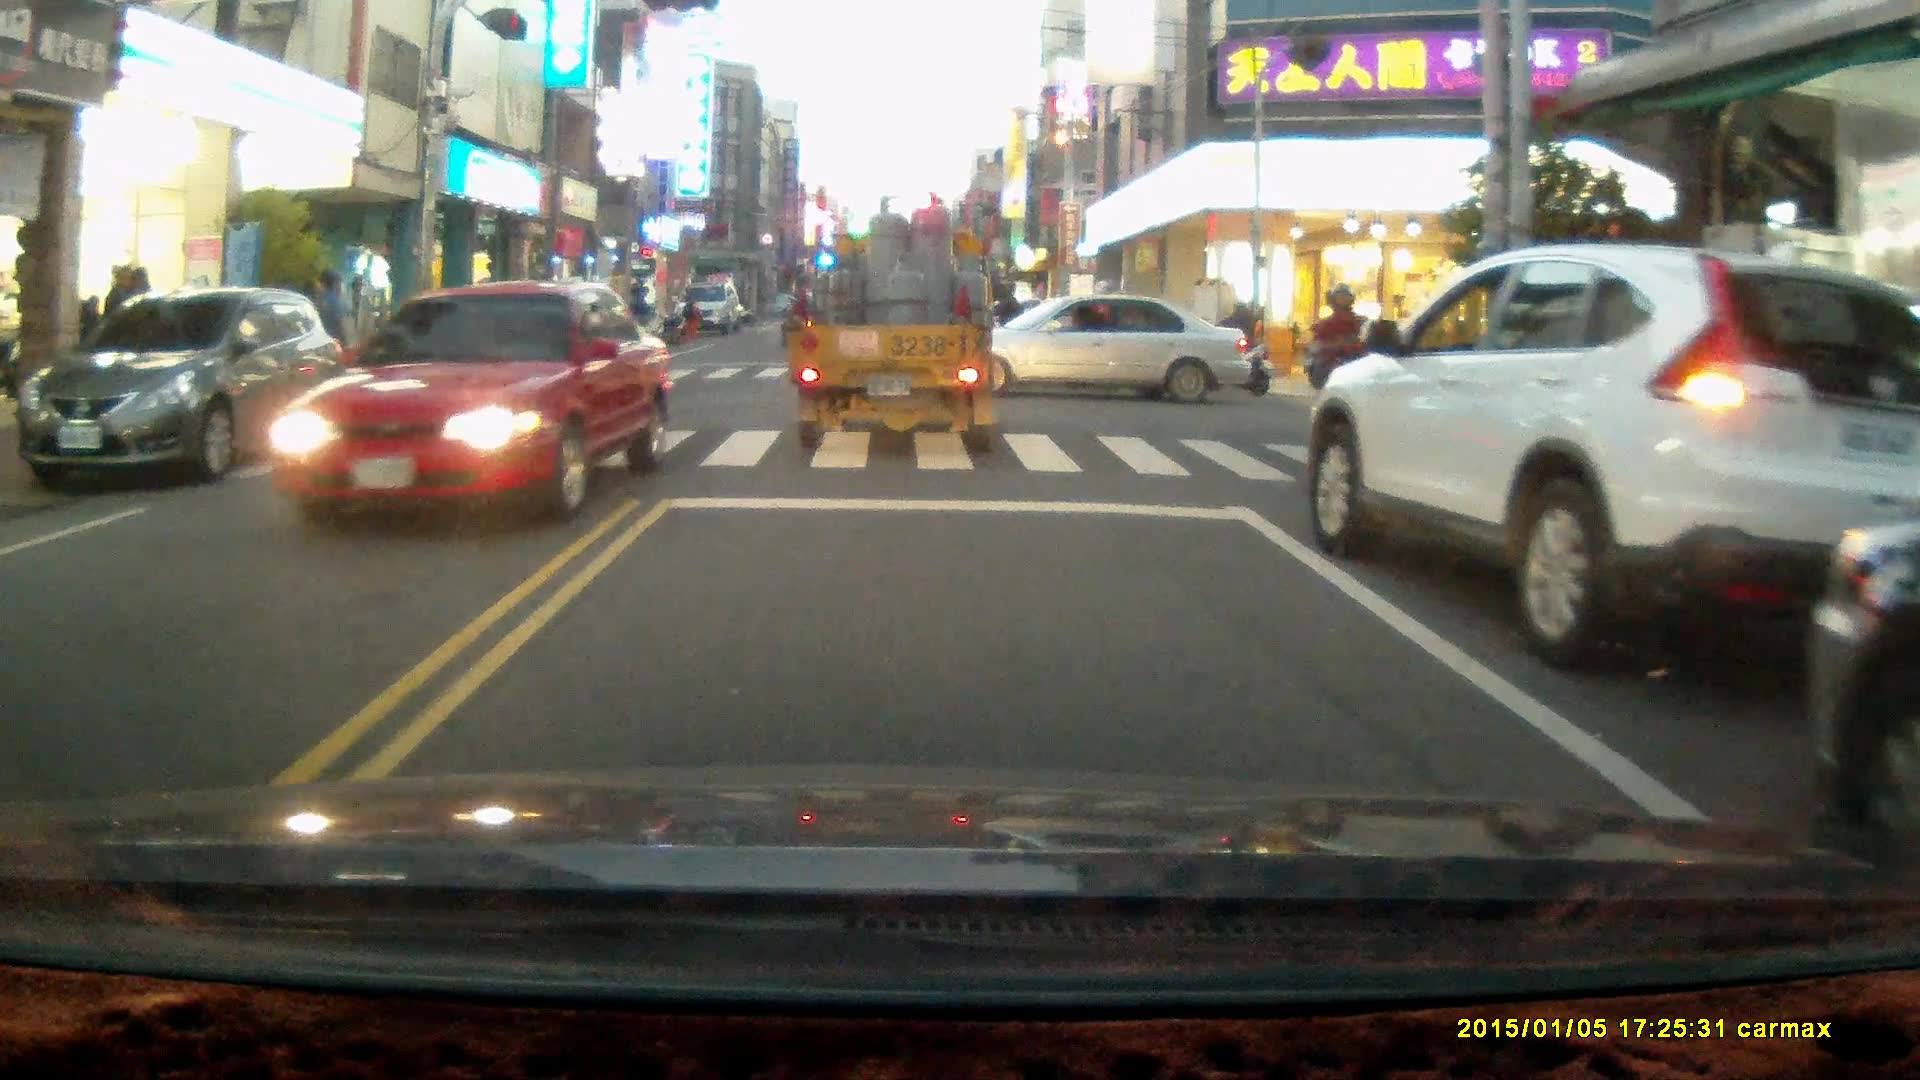pedestrian: (299, 268, 348, 392)
rider: (1300, 279, 1388, 458), (1180, 287, 1272, 395)
vehicle: (1301, 244, 1920, 679), (267, 280, 685, 525), (18, 287, 349, 491), (789, 192, 1004, 460), (928, 293, 1251, 409), (675, 284, 742, 336)
